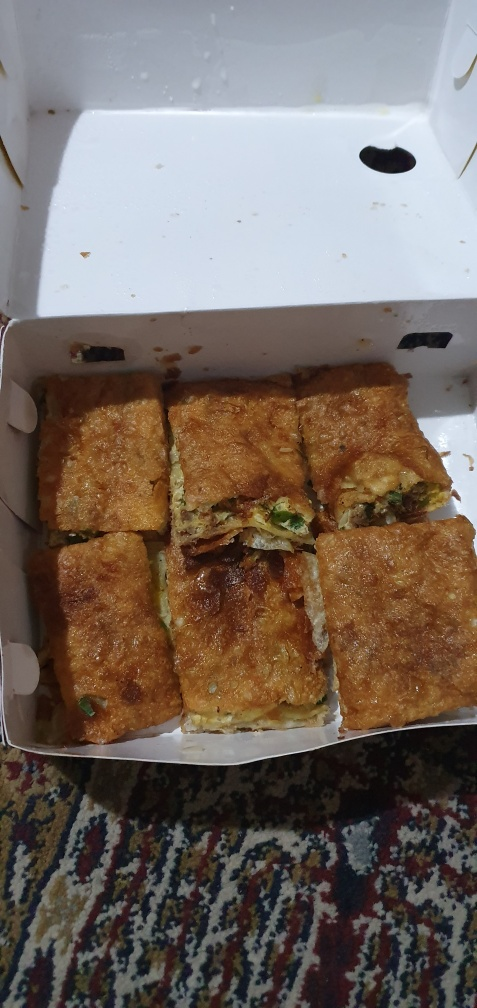martabak telor: (310, 517, 477, 727), (160, 537, 330, 732), (28, 538, 174, 741), (300, 350, 455, 523), (34, 366, 174, 534), (172, 375, 311, 539)
